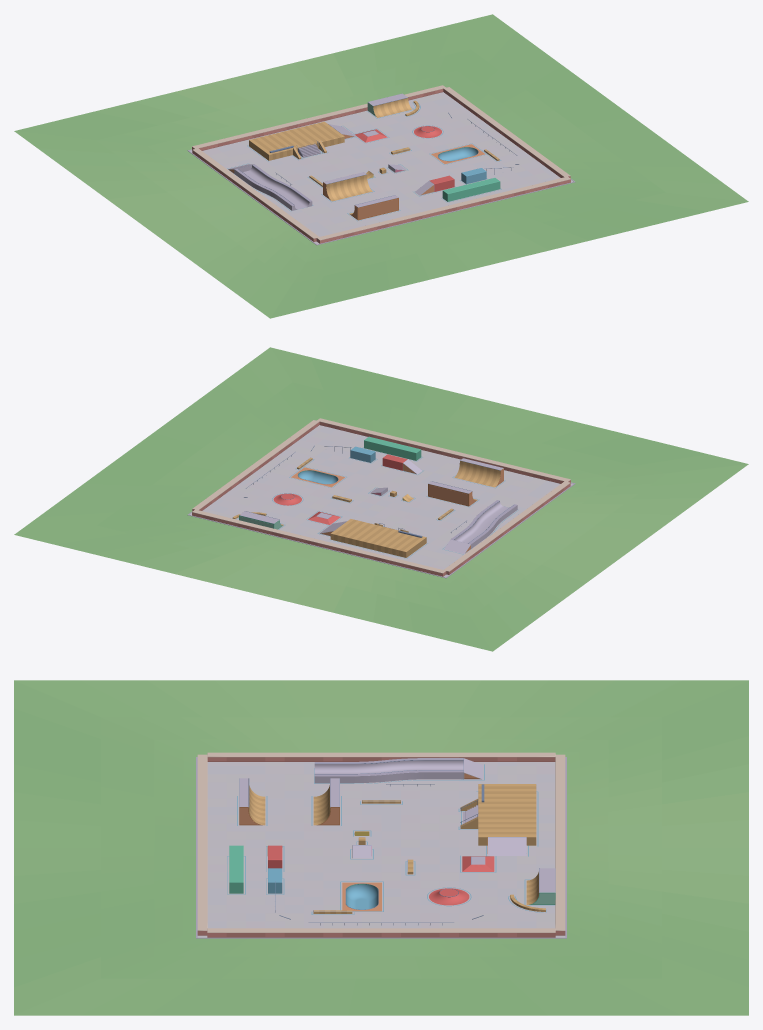
The model's file is pier.glb.
3 renders of one model, top to bottom at view 1: azimuth 30°, elevation 25°; view 2: azimuth 150°, elevation 25°; view 3: azimuth 270°, elevation 25°, orthographic. The views are drawn at different scales.
Visible parts, largest first — view 1: park; view 2: park; view 3: park.
Boxes of the visible parts, x1,y1,x2,y2 form: park: (14, 14, 748, 318); park: (14, 347, 748, 651); park: (14, 680, 748, 1015).
Bounding box in the file's own units: 164 × 6.67 × 152.
